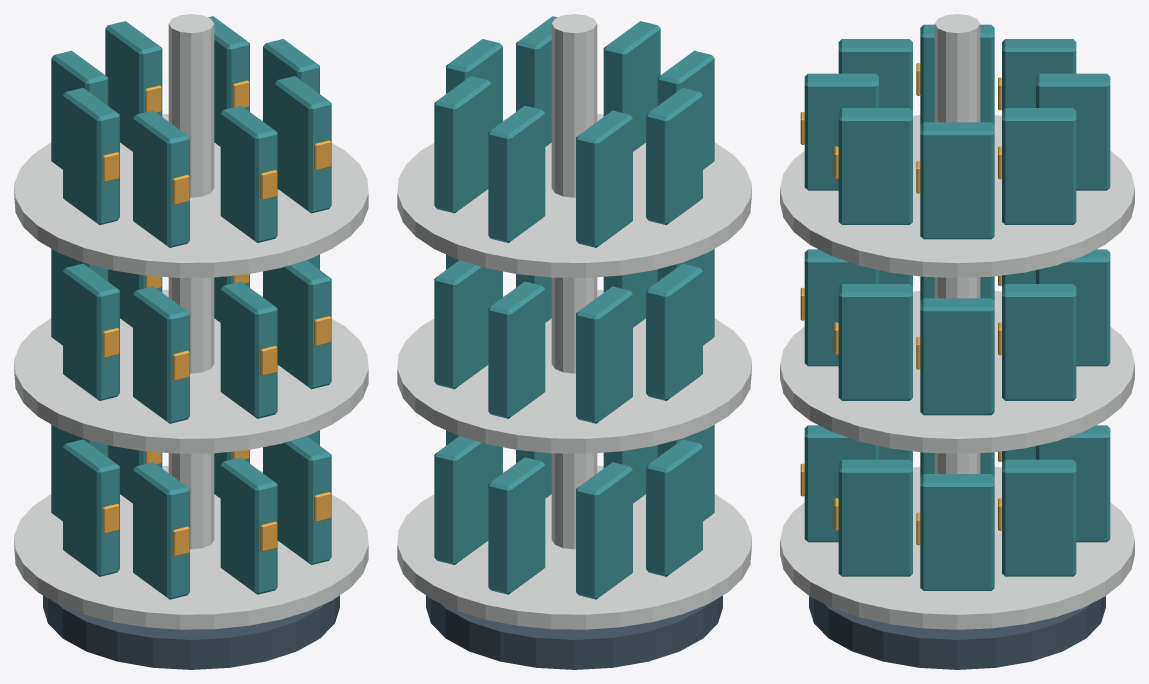
3 views of the same model, side by side, from view 1: azimuth 30°, elevation 25°; view 2: azimuth 150°, elevation 25°; view 3: azimuth 270°, elevation 25° (orthographic).
Parts seen in each view (by area): view 1: MI-076 Circular crew lending library batched; view 2: MI-076 Circular crew lending library batched; view 3: MI-076 Circular crew lending library batched.
Part boxes in pixels (x1,y1,x2,y2): MI-076 Circular crew lending library batched: [14, 14, 368, 669]; MI-076 Circular crew lending library batched: [397, 14, 751, 669]; MI-076 Circular crew lending library batched: [780, 14, 1134, 669].
Bounding box in the file's own units: 0.86 × 1.56 × 0.86.
